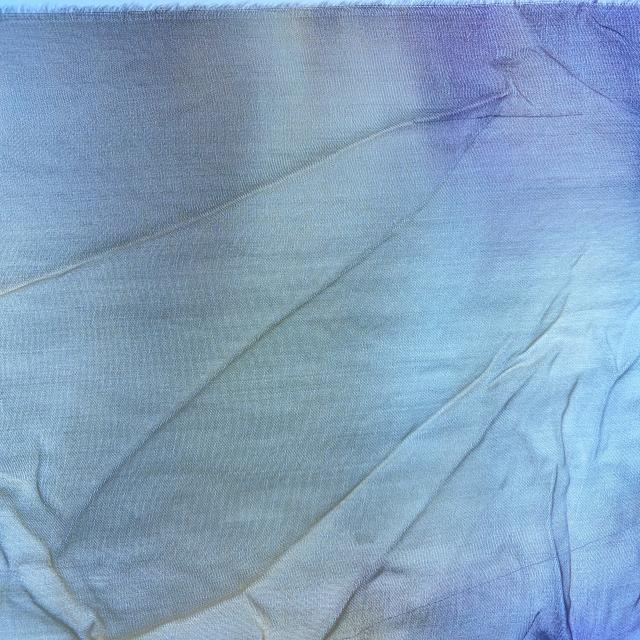broken_yarn: (2, 88, 515, 296), (106, 241, 394, 468), (373, 118, 492, 246)
